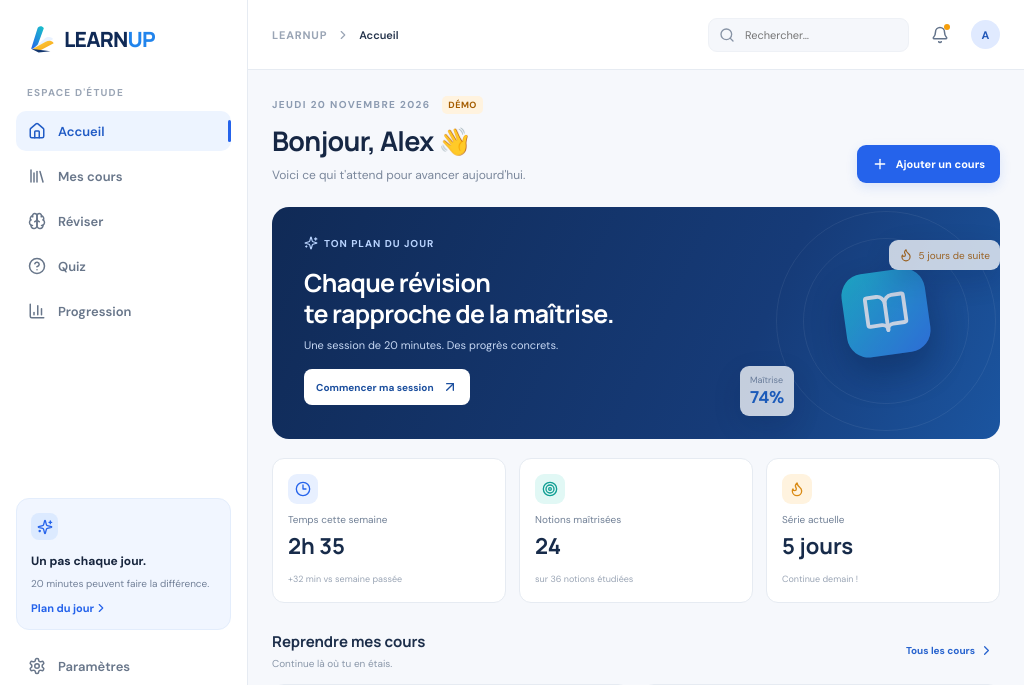
Test: LEARNUP study behavior › prevents submission until a choice is selected and explains the answer
Click the button "Quiz": (124,266) [16,246,231,286]
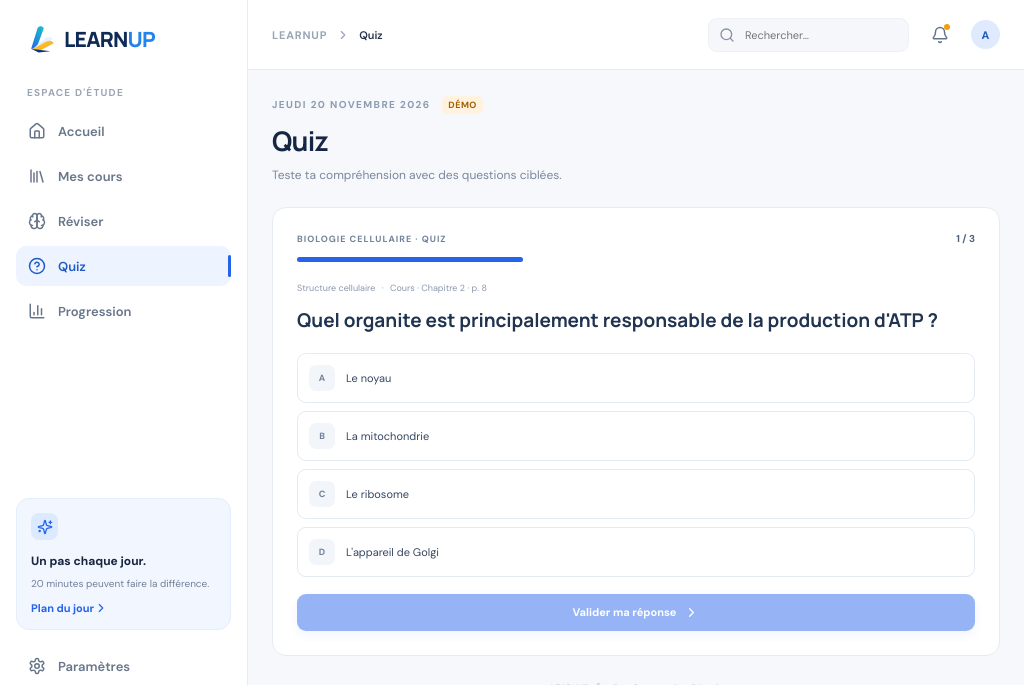
Expected: the button "Valider ma réponse" is disabled, [297,594,975,630]
Click the button "B La mitochondrie": (388,436) [297,410,975,460]
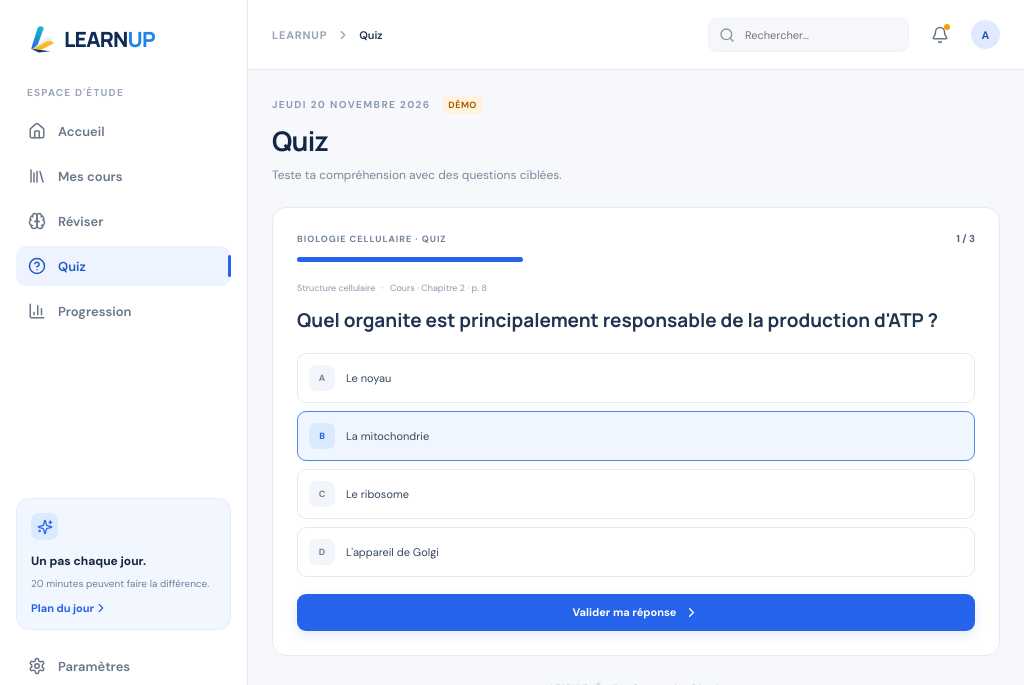
Click the button "Valider ma réponse": (636,612) [297,594,975,630]
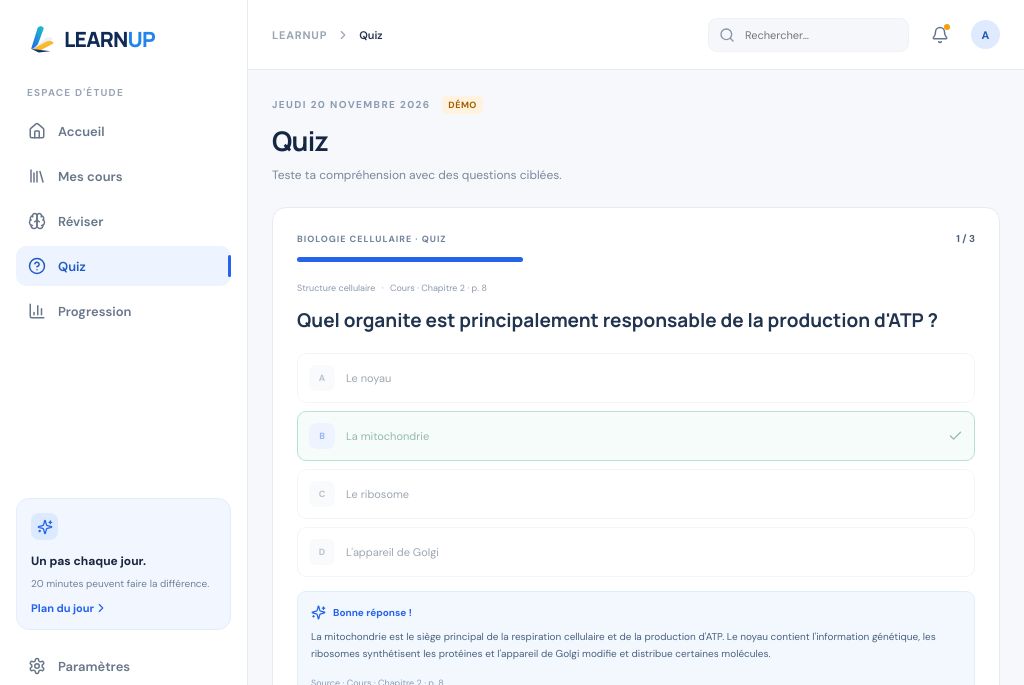
Expected: the text "La mitochondrie est le siège principal" is shown, [311,630,936,660]
